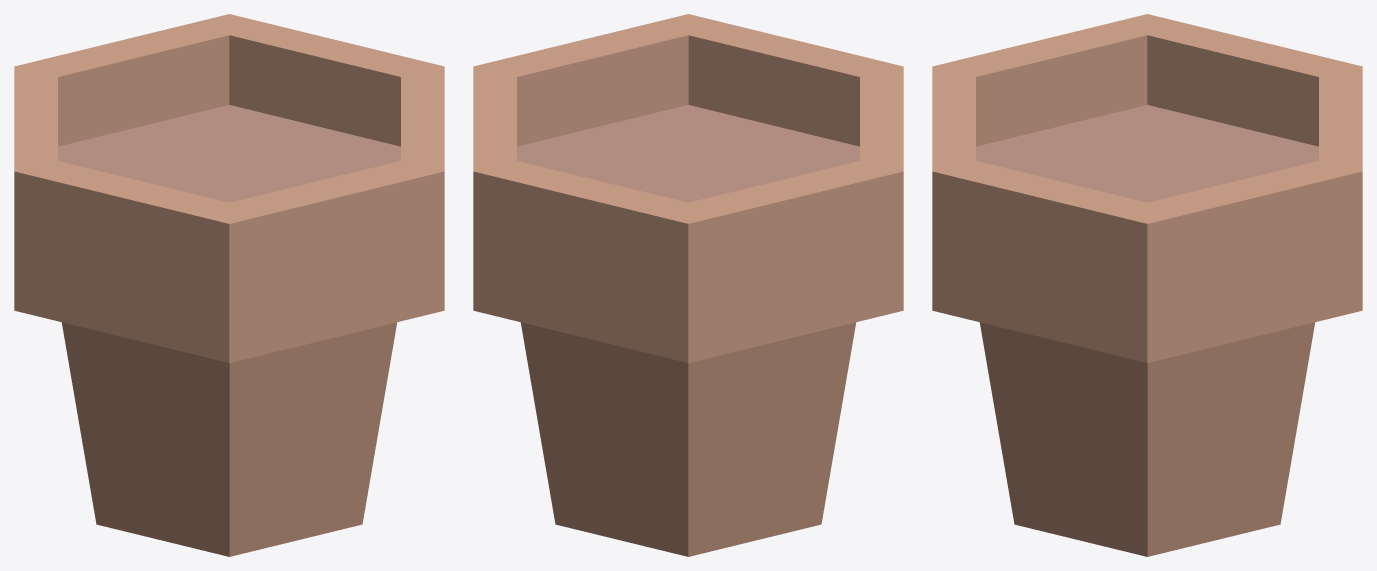
File: pot_small.glb
The picture shows the model from 3 angles, left to right: view 1: azimuth 30°, elevation 25°; view 2: azimuth 150°, elevation 25°; view 3: azimuth 270°, elevation 25°; orthographic projection.
Parts seen in each view (by area): view 1: pot_small; view 2: pot_small; view 3: pot_small.
Part boxes in pixels (x1,y1,x2,y2): pot_small: (14,14,444,556); pot_small: (473,14,903,556); pot_small: (932,14,1362,556).
Size of the model in its own units: 0.3234 by 0.268 by 0.2801.
